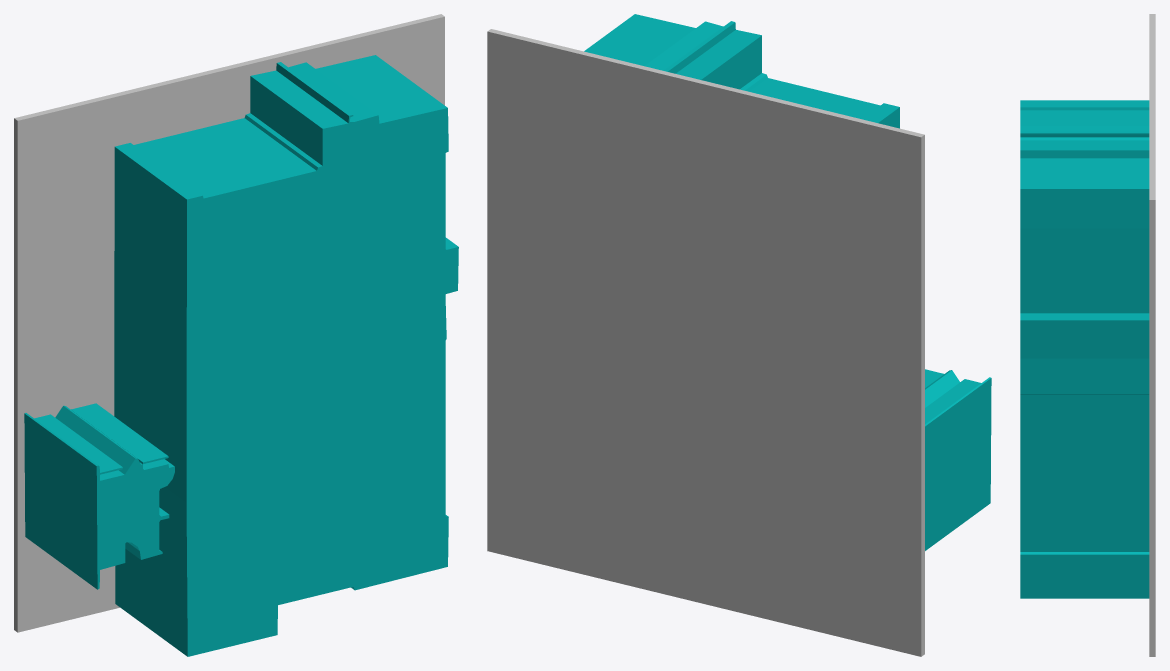
3 views of the same model, side by side, from view 1: azimuth 30°, elevation 25°; view 2: azimuth 150°, elevation 25°; view 3: azimuth 270°, elevation 25° (orthographic). The views are drawn at different scales.
Visible parts, largest first — view 1: world; view 2: world; view 3: world.
Part boxes in pixels (bbox=[...]): world: bbox=[14, 14, 458, 656]; world: bbox=[487, 14, 991, 656]; world: bbox=[1020, 14, 1155, 656].
Size of the model in its own units: 10.23 by 11.71 by 3.15.
